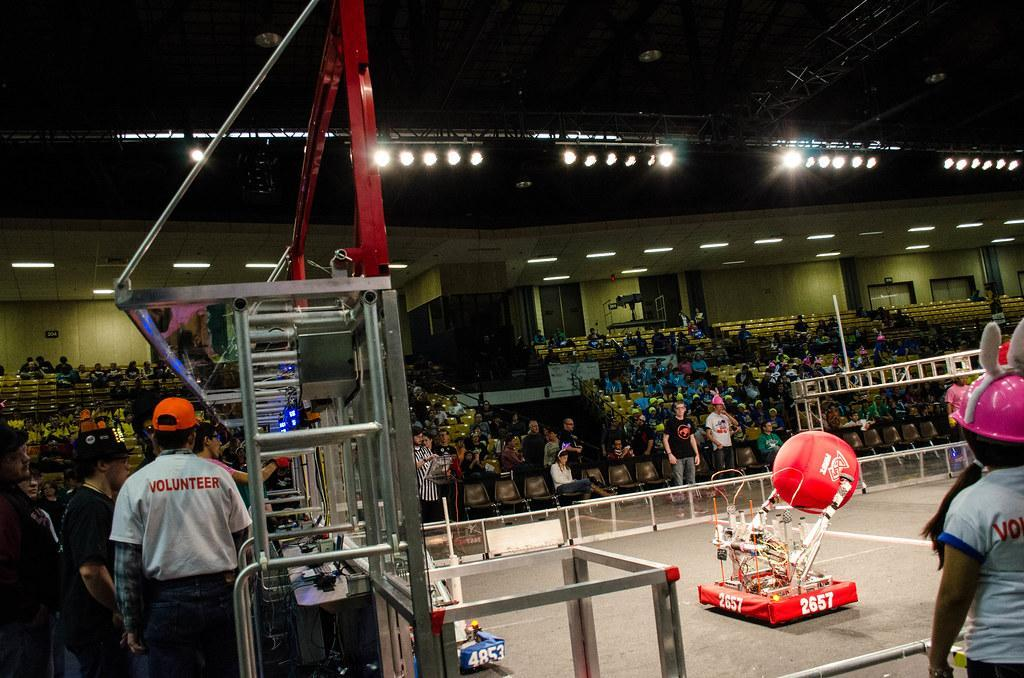robot: (689, 433, 873, 632), (368, 492, 511, 678)
